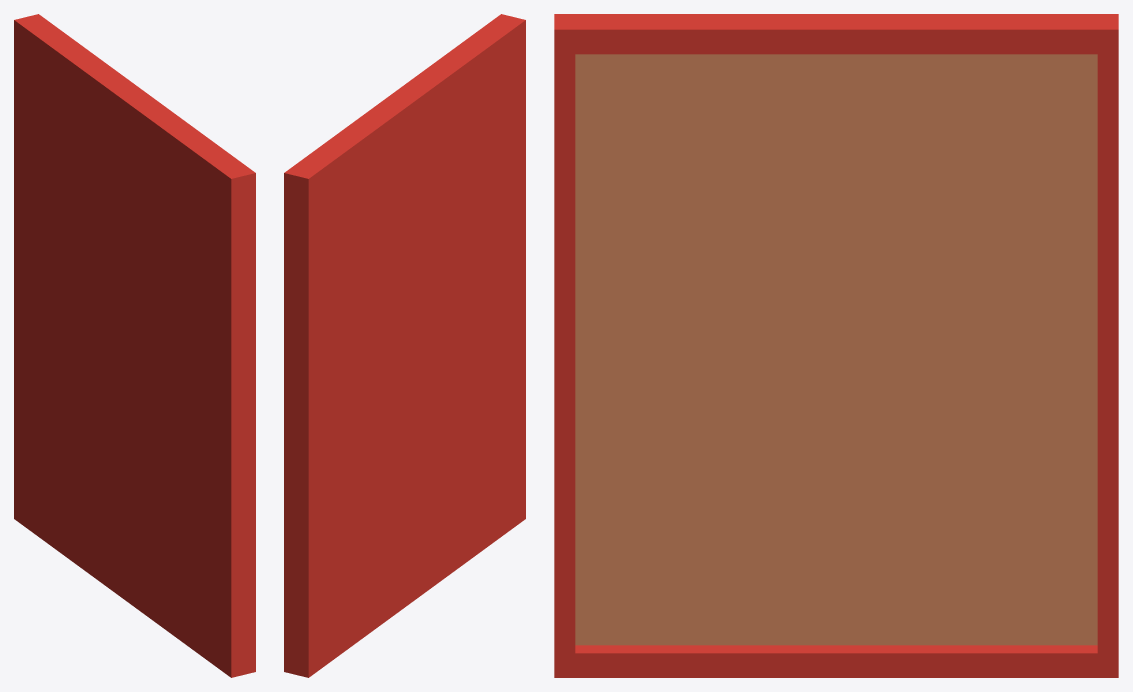
The model's file is Cuadro3.fbx.
3 renders of one model, left to right at view 1: azimuth 30°, elevation 25°; view 2: azimuth 150°, elevation 25°; view 3: azimuth 270°, elevation 25°, orthographic. The views are drawn at different scales.
Visible parts, largest first — view 1: Cube.002; view 2: Cube.002; view 3: Cube.003, Cube.002.
Part boxes in pixels (x1,y1,x2,y2): Cube.002: (14, 14, 255, 677); Cube.002: (284, 14, 525, 677); Cube.003: (575, 54, 1097, 645); Cube.002: (554, 14, 1118, 677).
Size of the model in its own units: 18.36 by 357 by 281.
